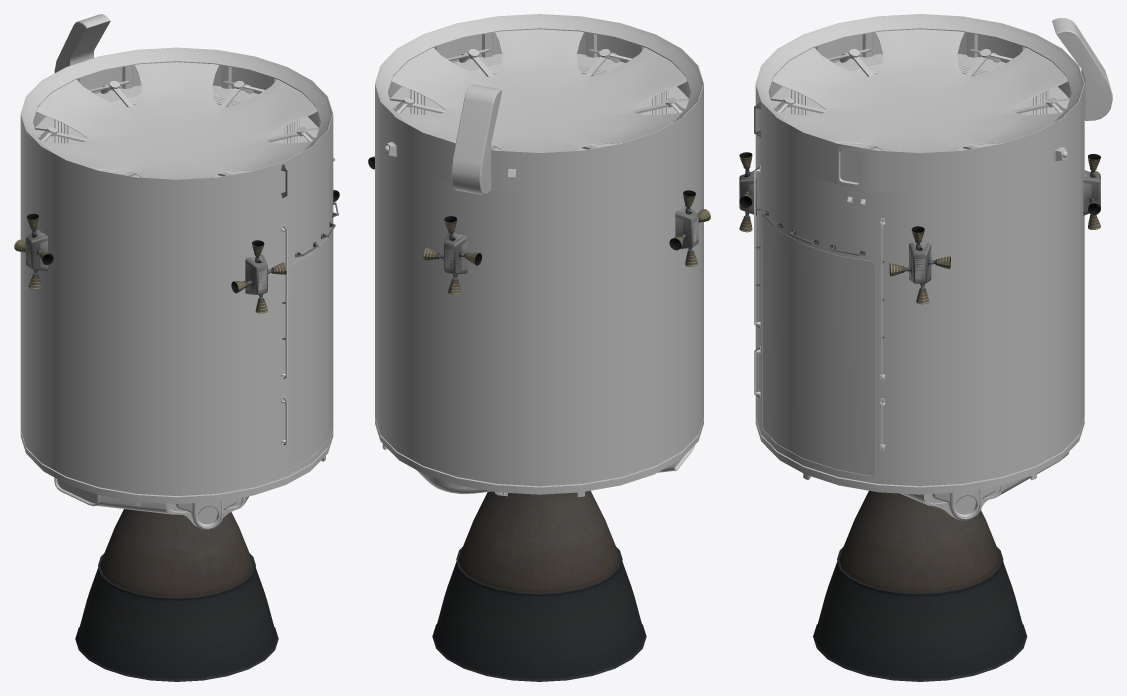
3 renders of one model, left to right at view 1: azimuth 30°, elevation 25°; view 2: azimuth 150°, elevation 25°; view 3: azimuth 270°, elevation 25°, orthographic. The views are drawn at different scales.
Visible parts, largest first — view 1: Service_Module, CM_Decoupler, SPS_Engine, SIM_Bay_Cover, Engine_Mount, RCS, Decoupler_Holder; view 2: Service_Module, CM_Decoupler, SPS_Engine, Decoupler_Holder, Engine_Mount, RCS; view 3: Service_Module, CM_Decoupler, SPS_Engine, SIM_Bay_Cover, Engine_Mount, RCS, Decoupler_Holder.
Boxes of the visible parts, x1,y1,x2,y2 form: Service_Module: (20, 153, 338, 495); CM_Decoupler: (20, 47, 333, 218); SPS_Engine: (75, 509, 278, 681); SIM_Bay_Cover: (289, 220, 333, 468); Engine_Mount: (20, 431, 333, 530); RCS: (14, 189, 339, 313); Decoupler_Holder: (54, 14, 110, 72); Service_Module: (375, 125, 703, 486); CM_Decoupler: (375, 14, 703, 193); SPS_Engine: (432, 490, 646, 681); Decoupler_Holder: (451, 84, 502, 195); Engine_Mount: (375, 418, 703, 497); RCS: (368, 156, 710, 294); Service_Module: (754, 125, 1084, 486); CM_Decoupler: (754, 14, 1084, 193); SPS_Engine: (813, 490, 1027, 681); SIM_Bay_Cover: (762, 216, 875, 475); Engine_Mount: (755, 418, 1084, 520); RCS: (739, 152, 1100, 304); Decoupler_Holder: (1052, 18, 1112, 120).
Bounding box in the file's own units: 275 × 507 × 284.
